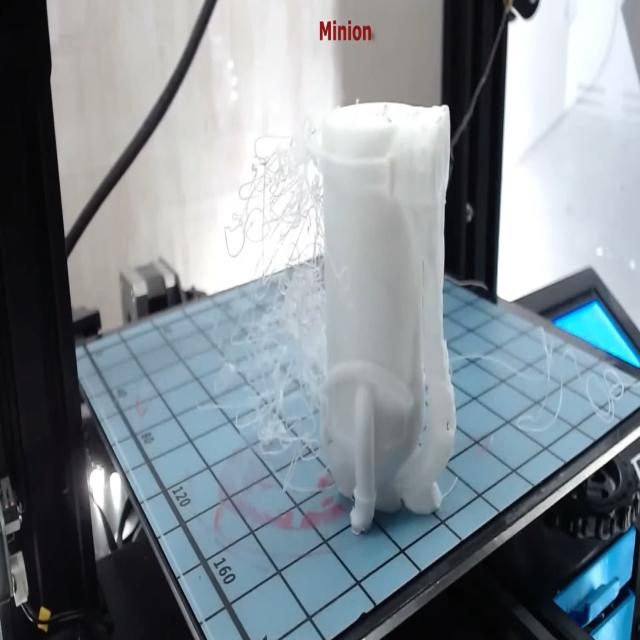spaghetti: (206, 99, 336, 504), (442, 282, 632, 444)
